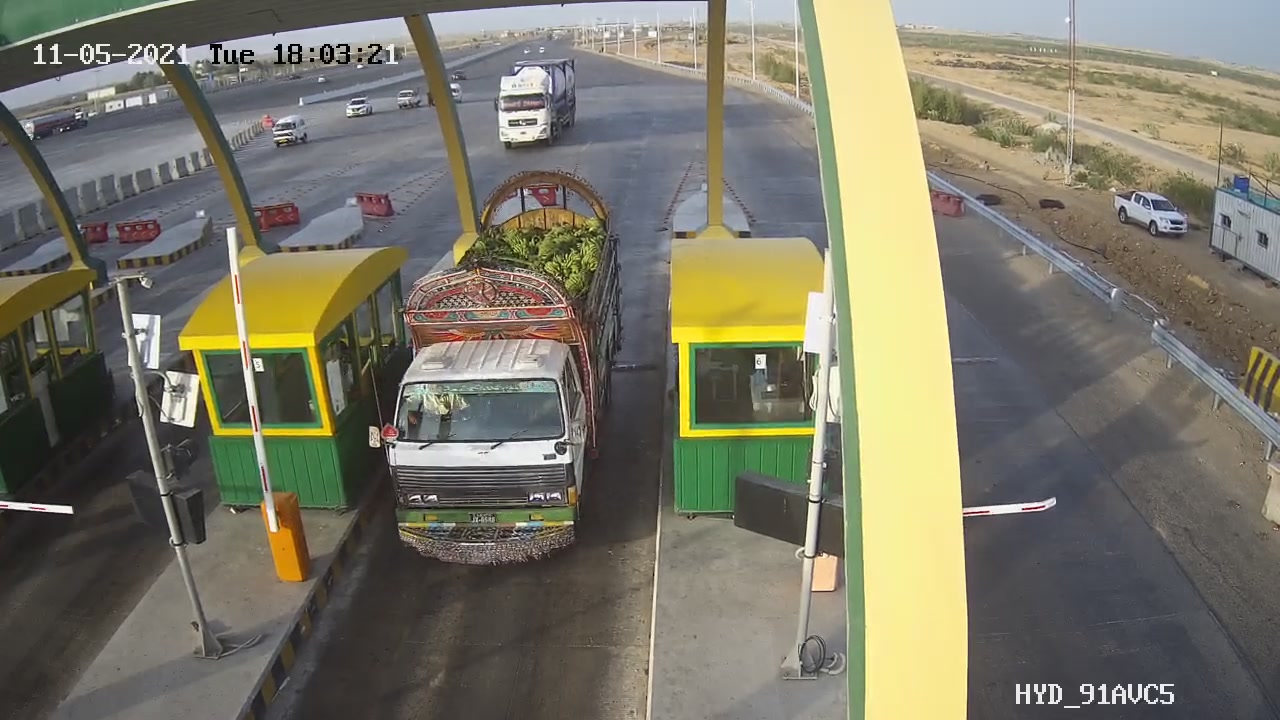F5: (353, 159, 653, 585)
